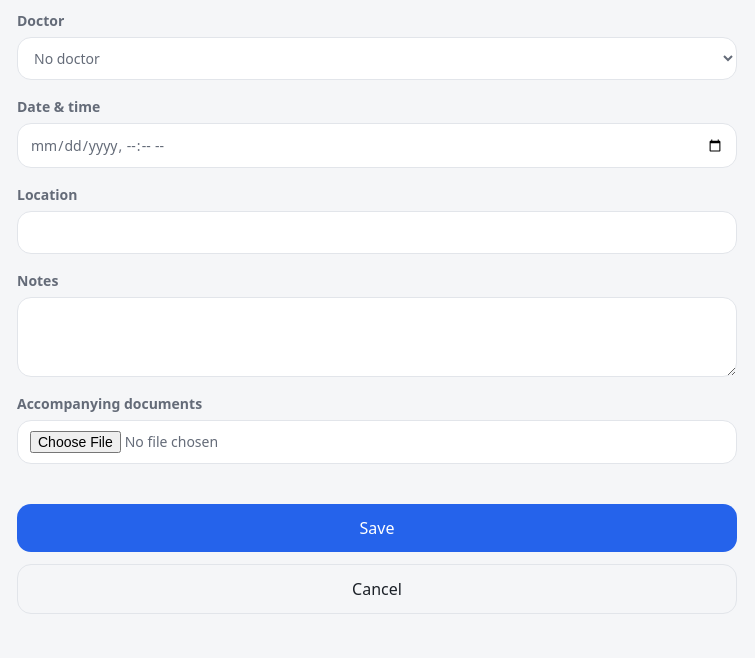
Test: AppointmentFormScreen › blocks submission and shows an error when the date & time is left blank
Type "Annual checkup" into the text box labelled "Notes" at (377, 337), box [17,297,737,377]
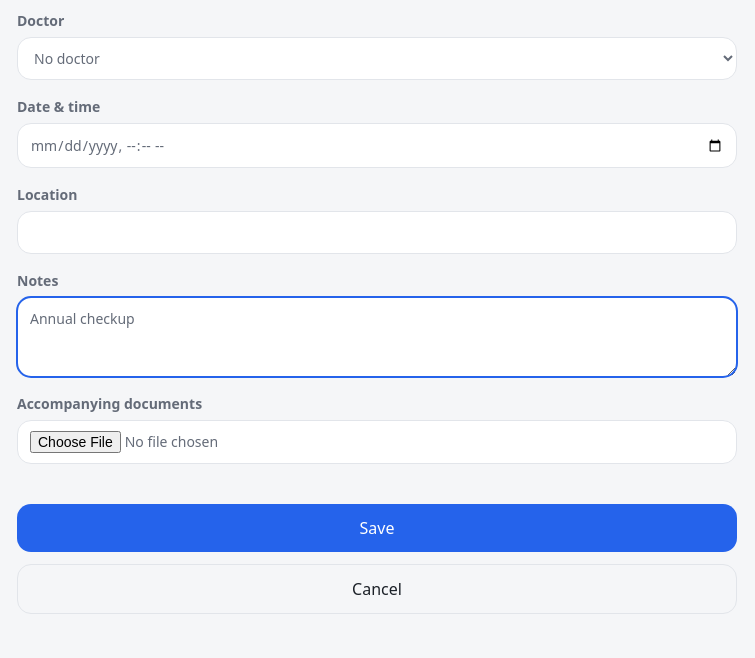
Click the button "Save" at (377, 528), box [17,504,737,552]
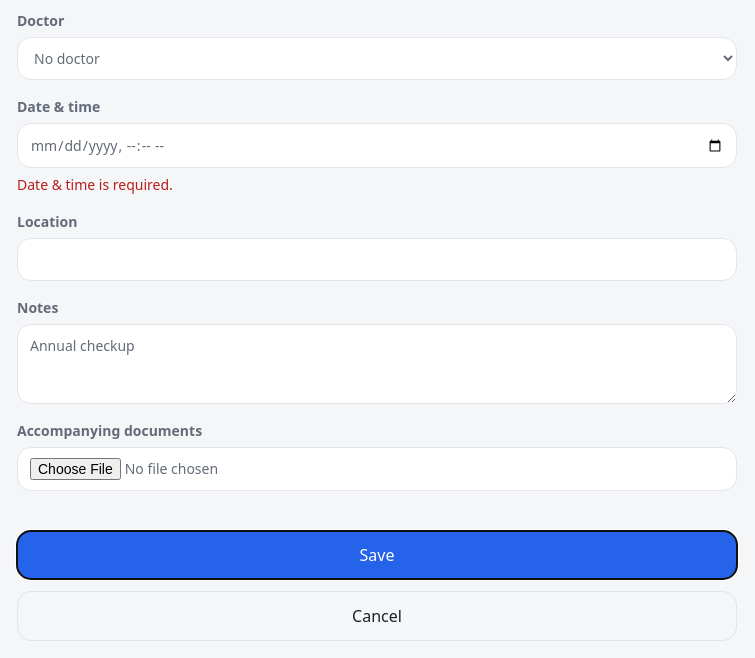
Now the text "Date & time is required." is shown, box [17,175,173,194]
